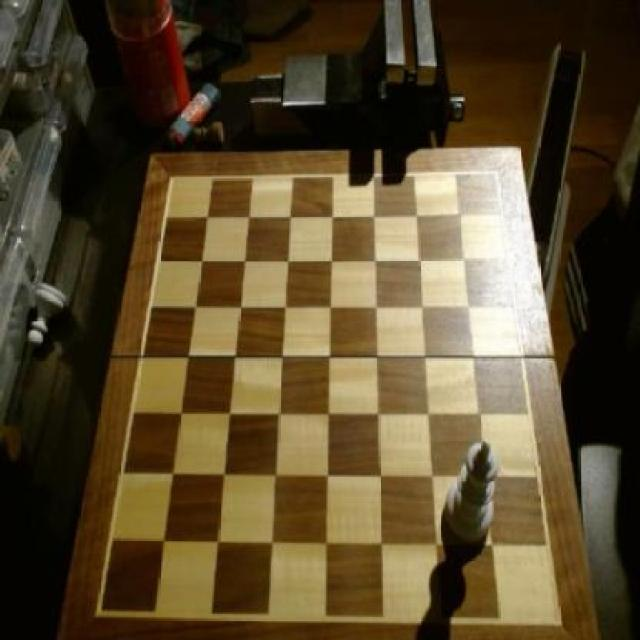white-bishop: (445, 435, 500, 544)
